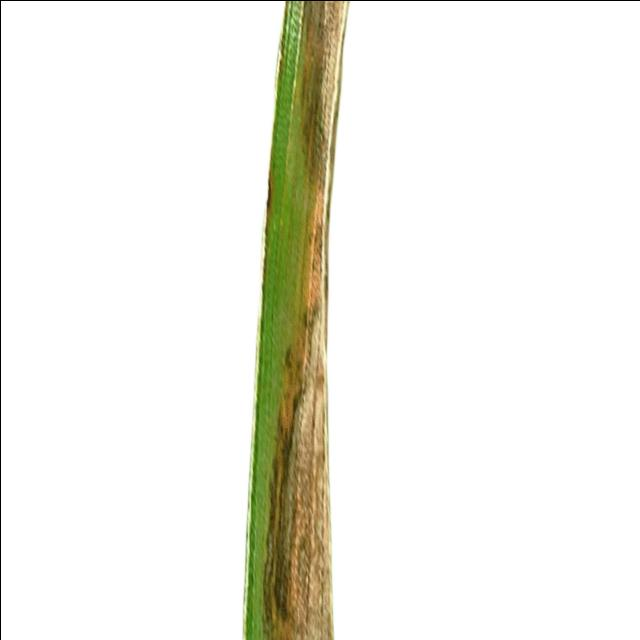Leaf scald: (133, 0, 502, 640)
